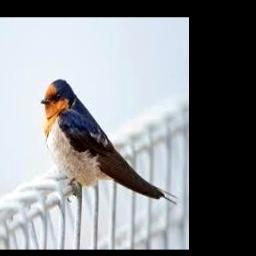Swallow: (41, 79, 178, 205)
